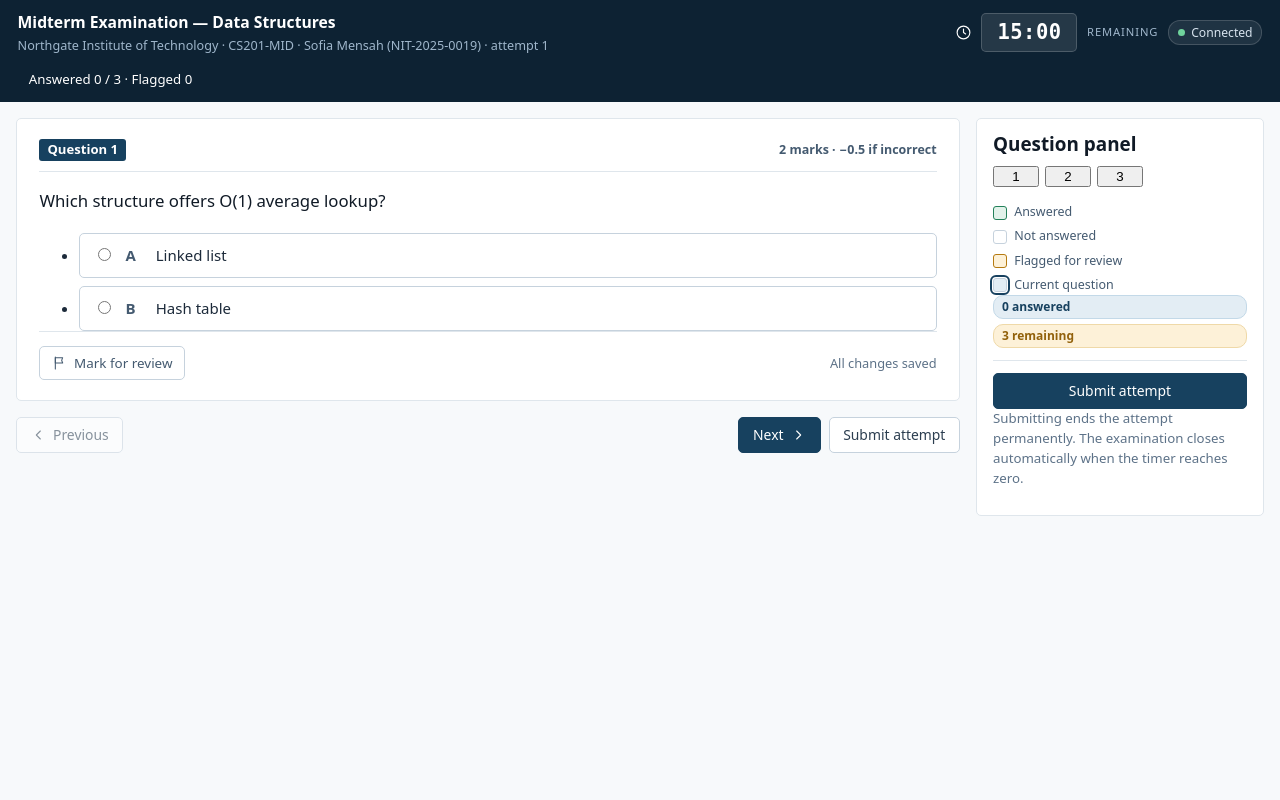
TakeAttemptPage › submits the attempt after confirmation and shows the immutable-result screen
Check: the text "Which structure offers O(1) average lookup?" is shown, box [39,189,386,212]
Click the button "Submit attempt" below "All changes saved".
click(894, 435)  # box [828,417,960,453]
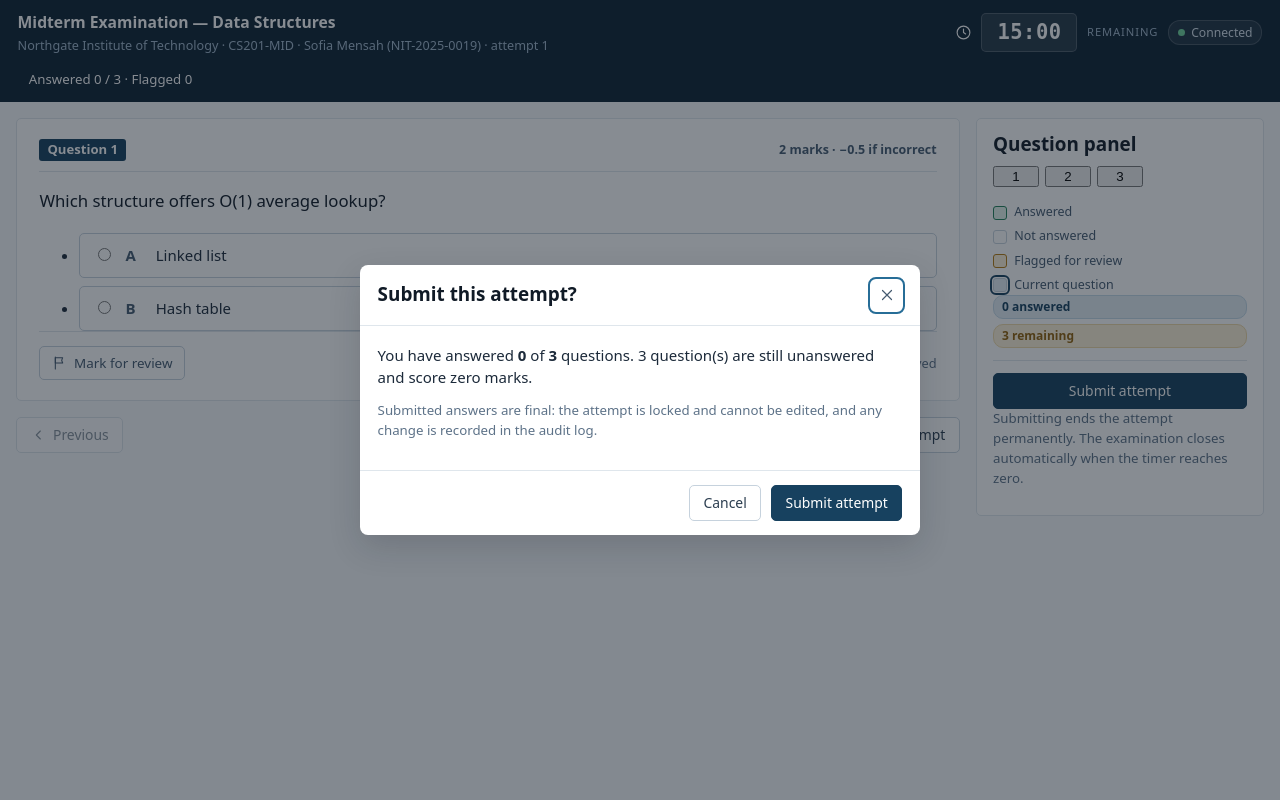
Check: the text "Submitted answers are final" is shown, box [378,401,882,439]
Click the button "Submit attempt".
click(837, 503)  # box [771,485,902,521]
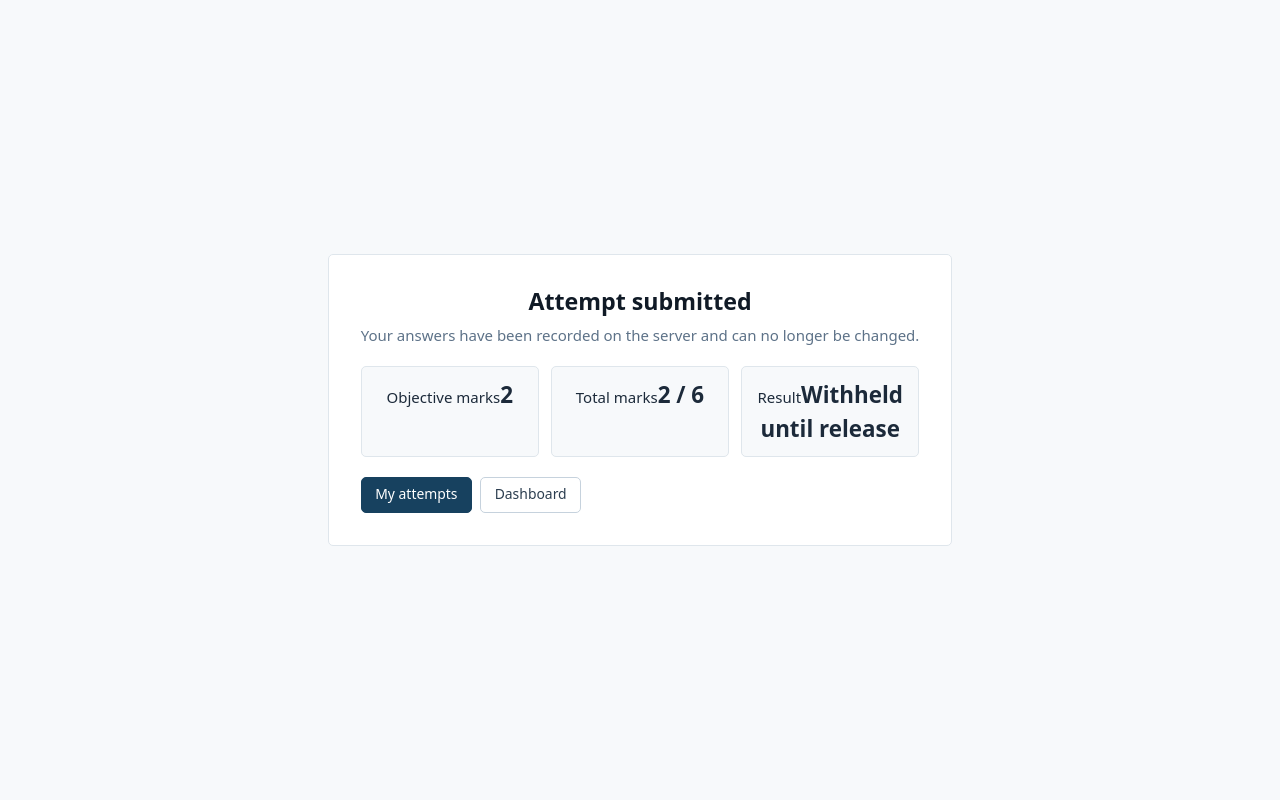
Check: the heading "Attempt submitted" is shown, box [528,285,752,317]
Check: the text "Withheld until release" is shown, box [760,379,903,444]
Check: the text "2 / 6" is shown, box [658,379,704,410]
